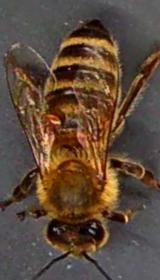varroa_mite: (35, 106, 64, 130)
